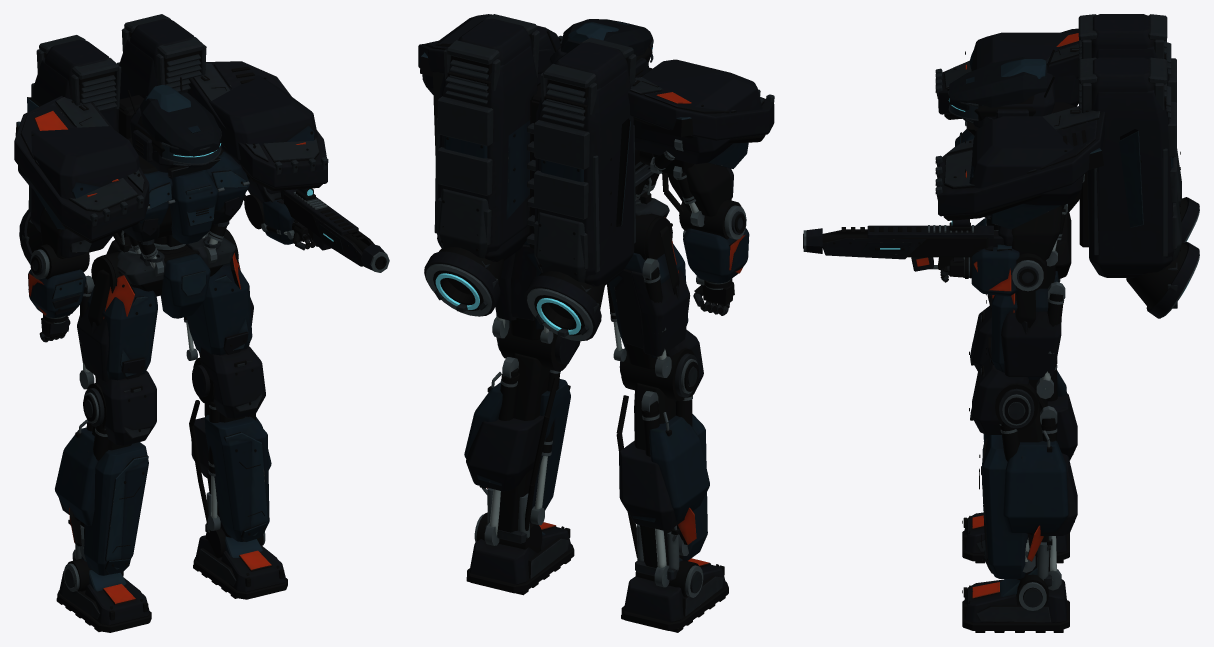
The model's file is m07-cangyan-v9.glb.
3 renders of one model, left to right at view 1: azimuth 30°, elevation 25°; view 2: azimuth 150°, elevation 25°; view 3: azimuth 270°, elevation 25°, orthographic. The views are drawn at different scales.
Parts seen in each view (by area): view 1: M07_Upper_cangyan_armor, M07_Upper_tiechao_armor, M07_Upper_armor, M07_Shin_L_armor, M07_Shin_R_armor, M07_Body_armor, M07_Thigh_L_armor, M07_Rifle_armor, M07_Thigh_R_armor, M07_Foot_L_armor, M07_Foot_R_armor, M07_Upper_bailu_armor; view 2: M07_Upper_cangyan_armor, M07_Upper_tiechao_armor, M07_Shin_L_armor, M07_Shin_R_armor, M07_Upper_armor, M07_Thigh_L_armor, M07_Foot_R_armor, M07_Foot_L_armor, M07_Upper_bailu_armor, M07_Thigh_R_armor, M07_Body_armor, M07_Upper_bailu_optics; view 3: M07_Upper_cangyan_armor, M07_Upper_tiechao_armor, M07_Shin_R_armor, M07_Rifle_armor, M07_Thigh_R_armor, M07_Foot_R_armor, M07_Upper_armor, M07_Upper_bailu_armor, M07_Shin_L_armor, M07_Body_armor, M07_Foot_L_armor.
Part boxes in pixels (x1,y1,x2,y2): M07_Upper_cangyan_armor: [14, 14, 328, 264]; M07_Upper_tiechao_armor: [18, 37, 317, 229]; M07_Upper_armor: [28, 138, 280, 342]; M07_Shin_L_armor: [55, 371, 156, 575]; M07_Shin_R_armor: [189, 346, 271, 541]; M07_Body_armor: [88, 231, 240, 339]; M07_Thigh_L_armor: [77, 256, 157, 389]; M07_Rifle_armor: [261, 188, 389, 272]; M07_Thigh_R_armor: [183, 229, 253, 360]; M07_Foot_L_armor: [56, 556, 151, 632]; M07_Foot_R_armor: [193, 527, 287, 599]; M07_Upper_bailu_armor: [15, 77, 190, 135]; M07_Upper_cangyan_armor: [418, 14, 774, 341]; M07_Upper_tiechao_armor: [422, 14, 762, 286]; M07_Shin_L_armor: [616, 329, 709, 587]; M07_Shin_R_armor: [464, 322, 580, 545]; M07_Upper_armor: [537, 83, 749, 315]; M07_Thigh_L_armor: [607, 217, 690, 377]; M07_Foot_R_armor: [466, 512, 574, 595]; M07_Foot_L_armor: [621, 558, 728, 632]; M07_Upper_bailu_armor: [420, 22, 693, 335]; M07_Thigh_R_armor: [492, 241, 553, 343]; M07_Body_armor: [634, 198, 679, 306]; M07_Upper_bailu_optics: [435, 273, 581, 334]; M07_Upper_cangyan_armor: [935, 14, 1199, 318]; M07_Upper_tiechao_armor: [964, 32, 1176, 274]; M07_Shin_R_armor: [969, 358, 1077, 590]; M07_Rifle_armor: [803, 219, 1019, 296]; M07_Thigh_R_armor: [986, 265, 1065, 398]; M07_Foot_R_armor: [962, 568, 1069, 632]; M07_Upper_armor: [955, 102, 1082, 292]; M07_Upper_bailu_armor: [1001, 49, 1143, 279]; M07_Shin_L_armor: [969, 305, 1077, 484]; M07_Body_armor: [976, 212, 1071, 341]; M07_Foot_L_armor: [962, 512, 1069, 563].
Size of the model in its own units: 9.34 by 17.34 by 11.53.
3 materials, 1 textured.
